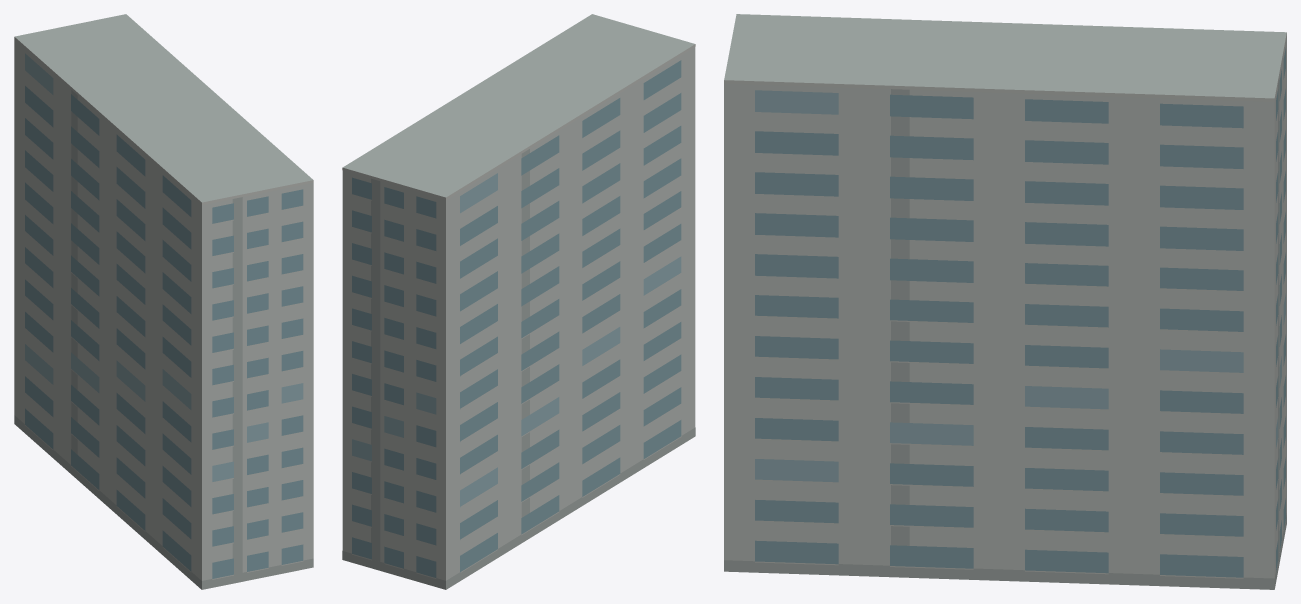
File: residential-65e11585-9de7-4b15-8089-d3f4efe1b8d8.glb
3 views of the same model, side by side, from view 1: azimuth 30°, elevation 25°; view 2: azimuth 150°, elevation 25°; view 3: azimuth 270°, elevation 25° (orthographic). The views are drawn at different scales.
Parts seen in each view (by area): view 1: residential-65e11585-9de7-4b15-8089-d3f4efe1b8d8.tmp; view 2: residential-65e11585-9de7-4b15-8089-d3f4efe1b8d8.tmp; view 3: residential-65e11585-9de7-4b15-8089-d3f4efe1b8d8.tmp.
Boxes of the visible parts, x1,y1,x2,y2 form: residential-65e11585-9de7-4b15-8089-d3f4efe1b8d8.tmp: [14, 14, 313, 589]; residential-65e11585-9de7-4b15-8089-d3f4efe1b8d8.tmp: [342, 14, 695, 589]; residential-65e11585-9de7-4b15-8089-d3f4efe1b8d8.tmp: [724, 14, 1286, 589].
Bounding box in the file's own units: 12.91 × 35 × 36.34.
